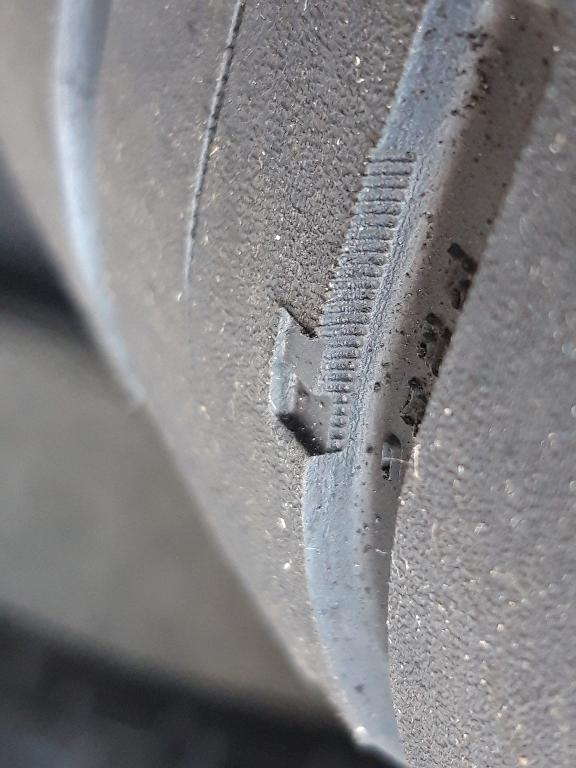temoin:25: (256, 295, 375, 472)
